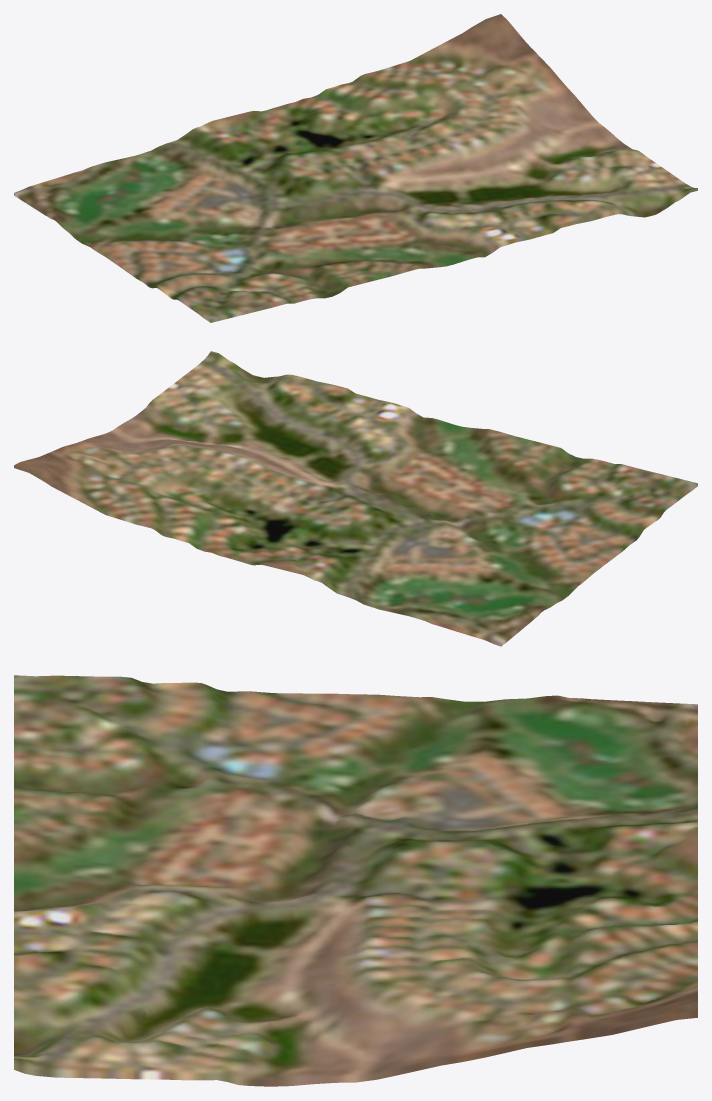
The model's file is terrain_r1_c1_lod1.glb.
3 renders of one model, top to bottom at view 1: azimuth 30°, elevation 25°; view 2: azimuth 150°, elevation 25°; view 3: azimuth 270°, elevation 25°, orthographic. The views are drawn at different scales.
Visible parts, largest first — view 1: terrain_r1_c1_lod1; view 2: terrain_r1_c1_lod1; view 3: terrain_r1_c1_lod1.
Boxes of the visible parts, x1,y1,x2,y2 form: terrain_r1_c1_lod1: [14, 14, 697, 322]; terrain_r1_c1_lod1: [14, 351, 697, 646]; terrain_r1_c1_lod1: [14, 675, 697, 1086].
Bounding box in the file's own units: 1125 × 138 × 787.
Materials: 1 (1 with a texture image).
